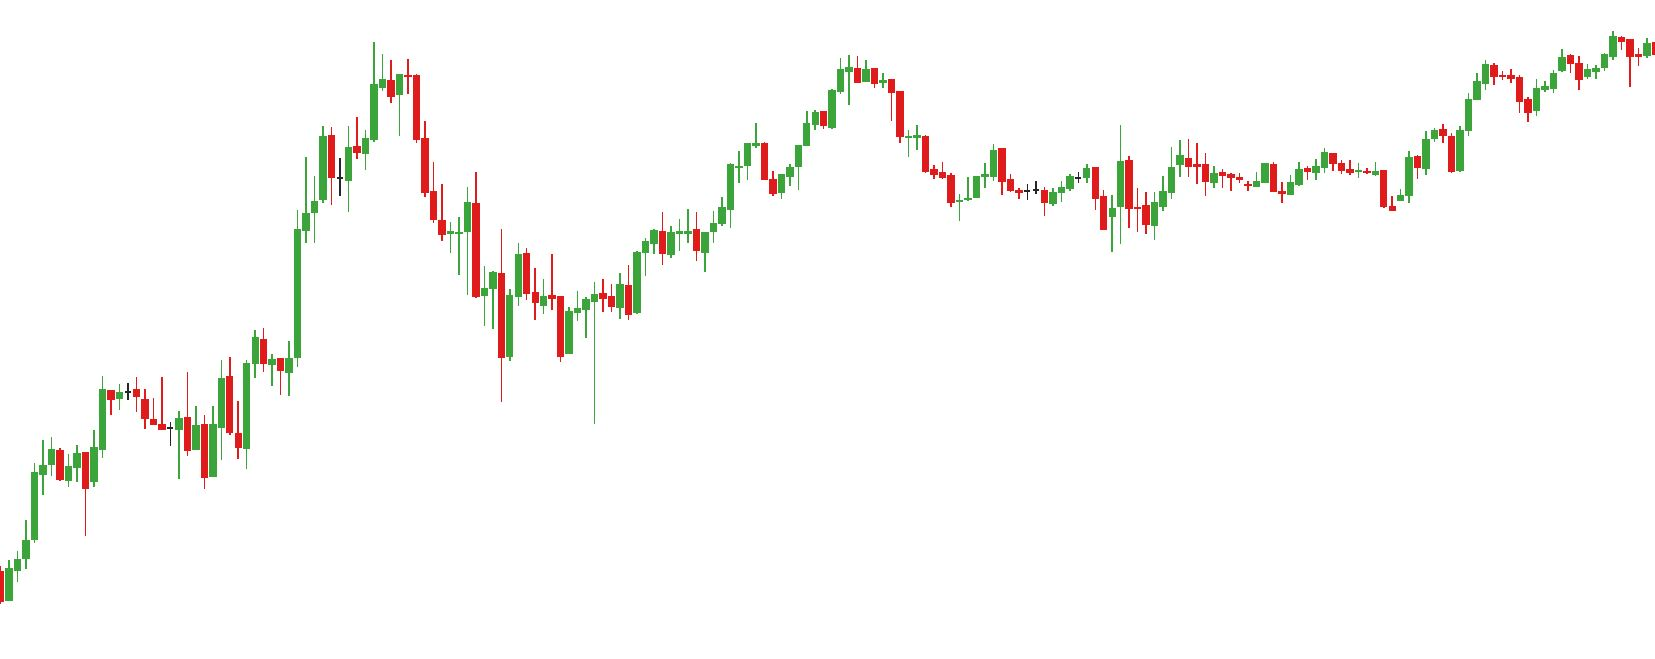buy: (497, 282, 600, 422), (954, 172, 1116, 259)
